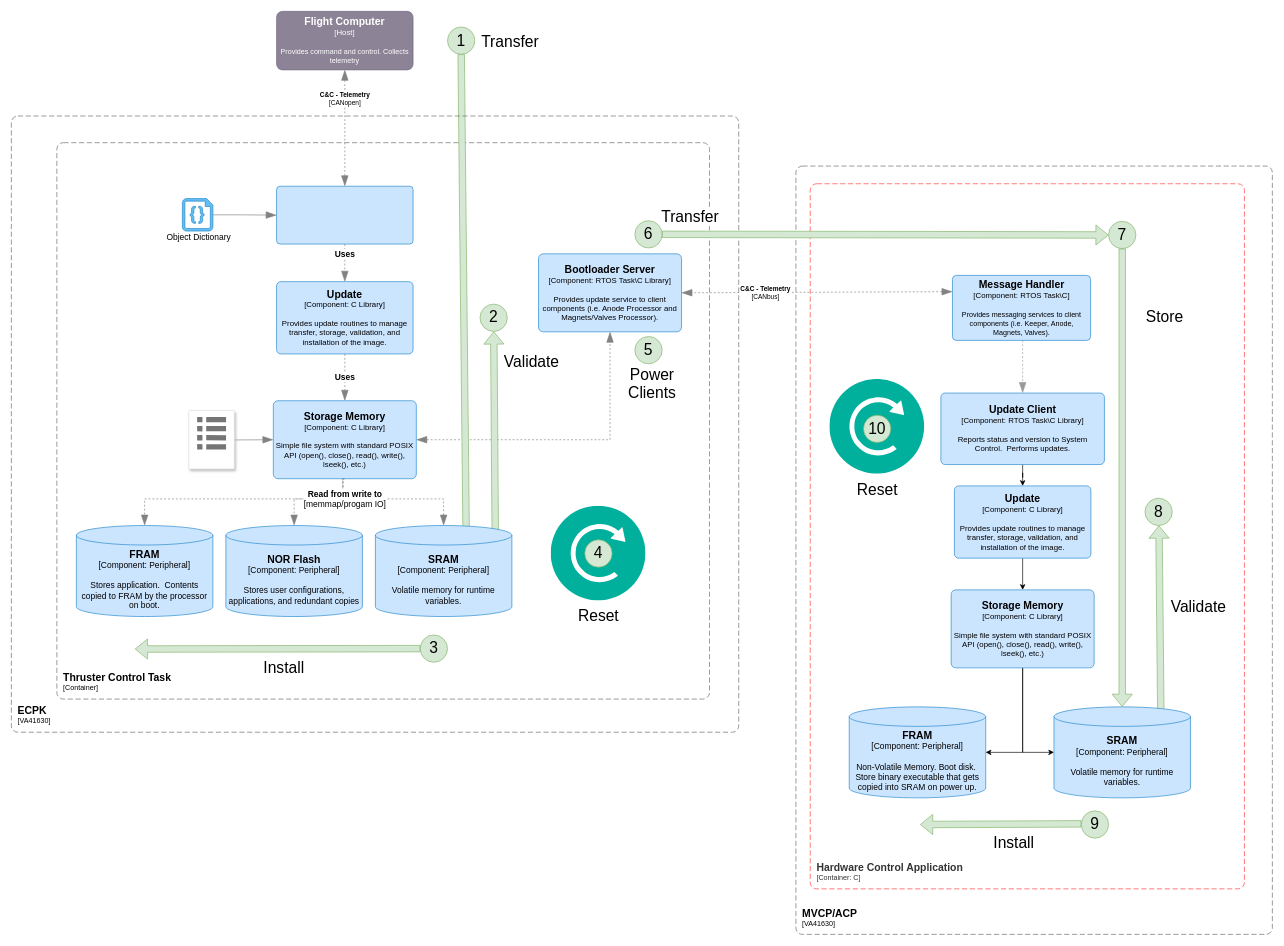
Some shapes in this 1284 by 946 pixel diagram are drawn without their labels. Each missing label, with the centre of its shape:
CANopen Stack [Component: RTOS Task\C Library] Protocol stack: (344,215)
File Map: (212,440)
